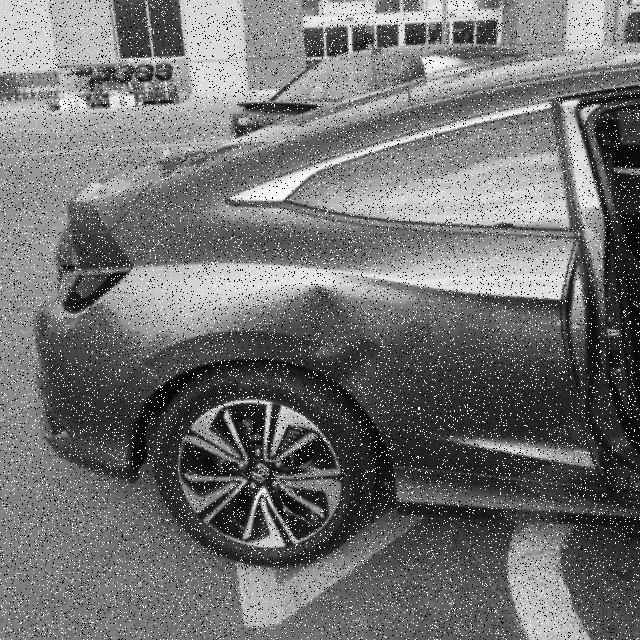quaterpanel-dent: (156, 232, 563, 427)
